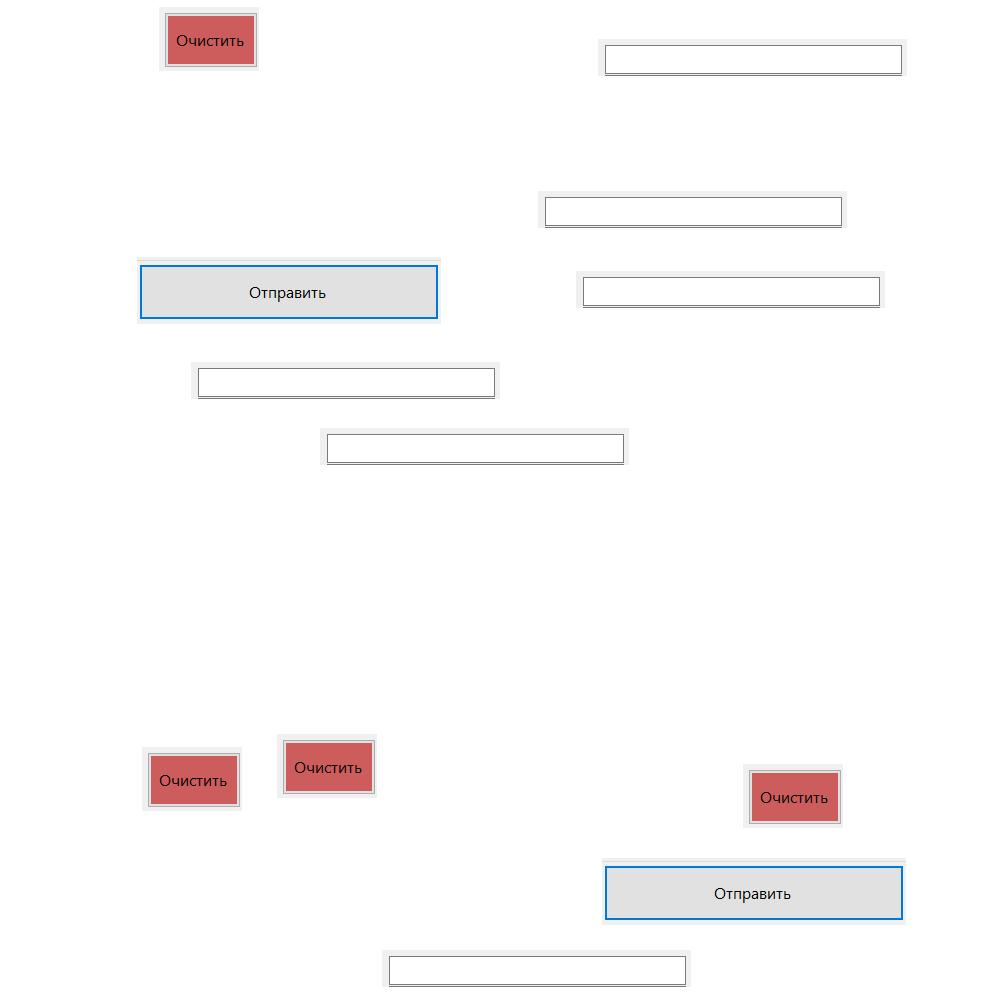Button: (602, 858, 906, 925), (137, 257, 441, 324), (159, 7, 259, 71), (277, 734, 377, 798), (743, 764, 843, 828), (142, 747, 242, 811)
EditText-: (538, 191, 847, 228), (191, 362, 500, 399), (598, 39, 907, 76), (320, 428, 629, 465), (382, 950, 691, 987), (576, 271, 885, 308)
